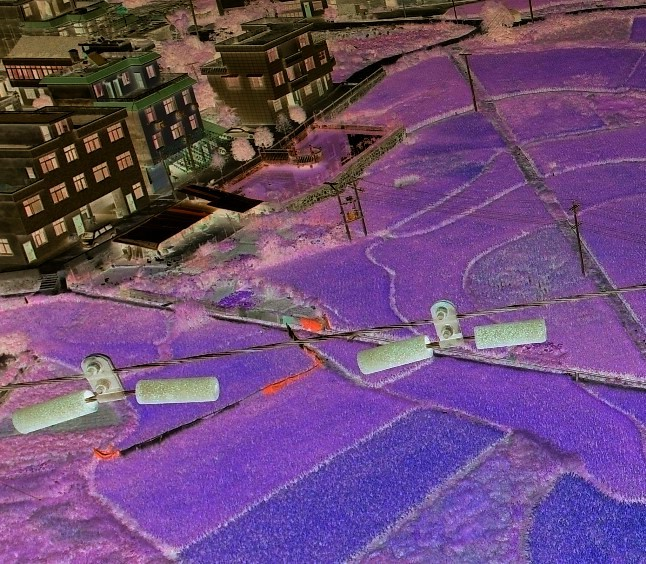Shockproof hammer: (9, 341, 227, 436), (349, 291, 553, 375)
